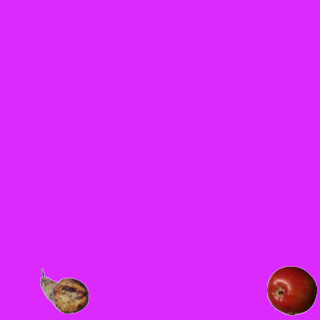Apple Braeburn: (266, 265, 316, 315)
Pear Abate: (39, 266, 89, 316)
